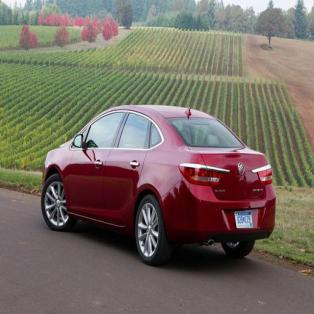Auto: (38, 104, 278, 268)
